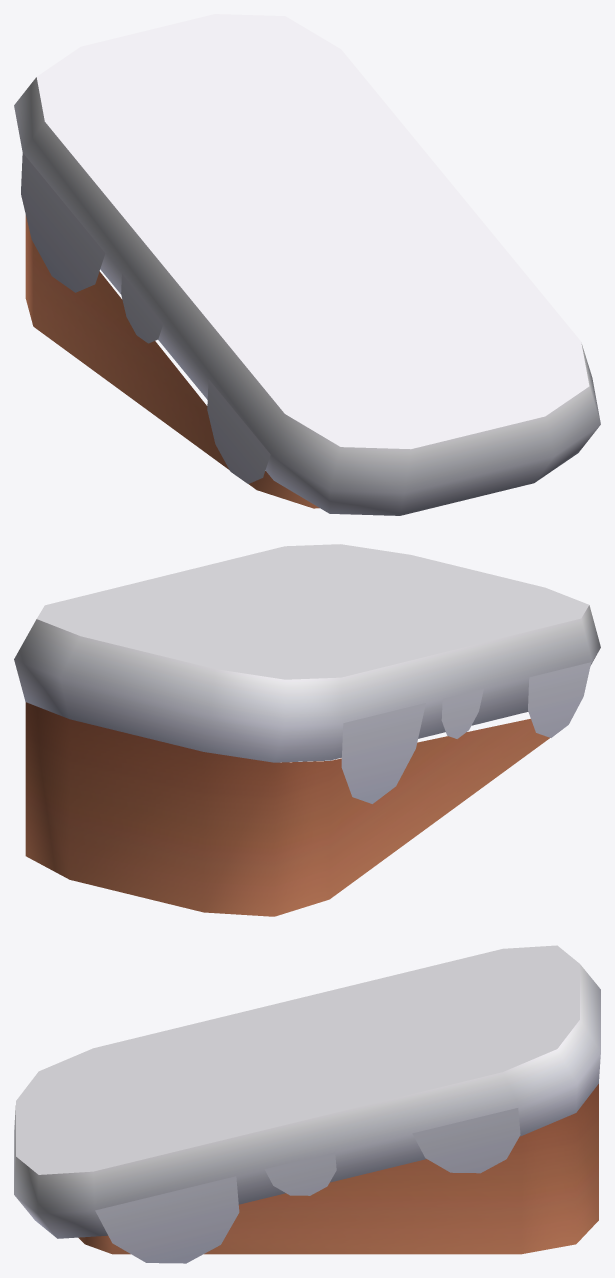
File: kenney-platformer-block-snow-overhang-large-slope-narrow.glb
3 views of the same model, one above another, from view 1: azimuth 30°, elevation 25°; view 2: azimuth 150°, elevation 25°; view 3: azimuth 270°, elevation 25° (orthographic). The views are drawn at different scales.
Visible parts, largest first — view 1: block-snow-overhang-large-slope-narrow; view 2: block-snow-overhang-large-slope-narrow; view 3: block-snow-overhang-large-slope-narrow.
Part boxes in pixels (bbox=[...]): block-snow-overhang-large-slope-narrow: bbox=[14, 14, 600, 515]; block-snow-overhang-large-slope-narrow: bbox=[14, 544, 600, 916]; block-snow-overhang-large-slope-narrow: bbox=[14, 945, 600, 1263].
Bounding box in the file's own units: 1.08 × 0.7751 × 2.01.
Materials: 1 (1 with a texture image).
